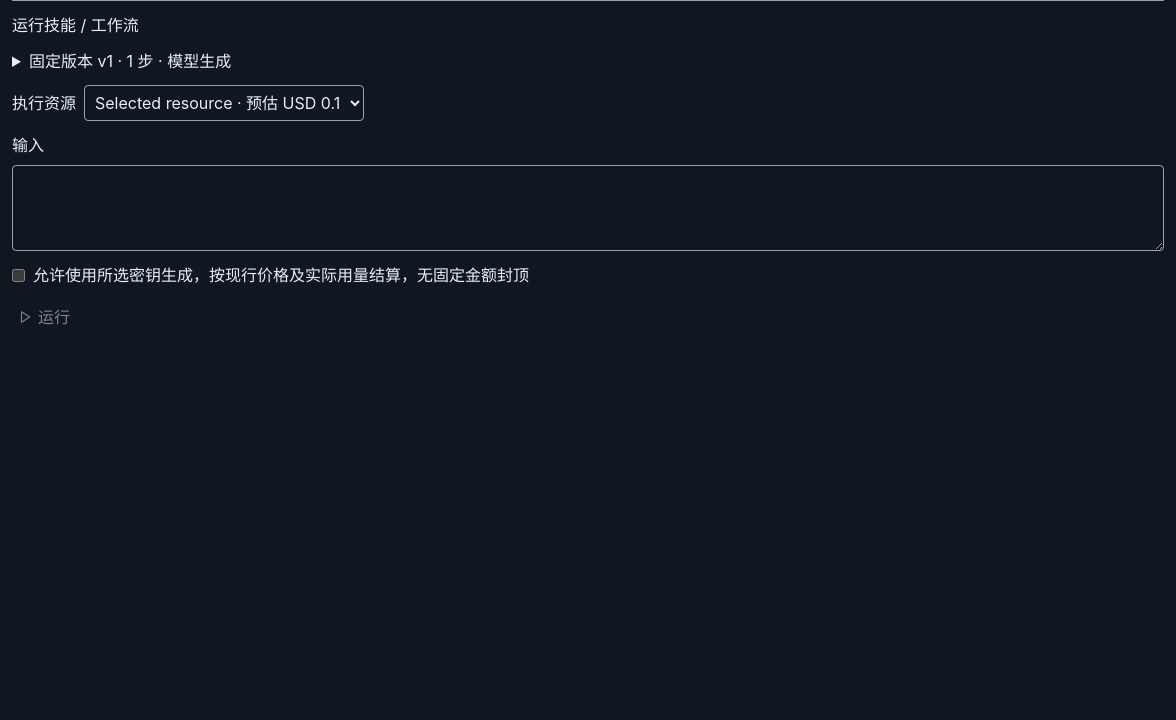
Scenario: AssetExecutionPanel › requires quote/permission confirmation, launches a pinned plan and saves real run results
The image size is (1176, 720).
Expected: the button "运行" is disabled, 12,299 -> 1164,335
Type "user input" into the text box labelled "输入" at (588, 208), box 12,165 -> 1164,251
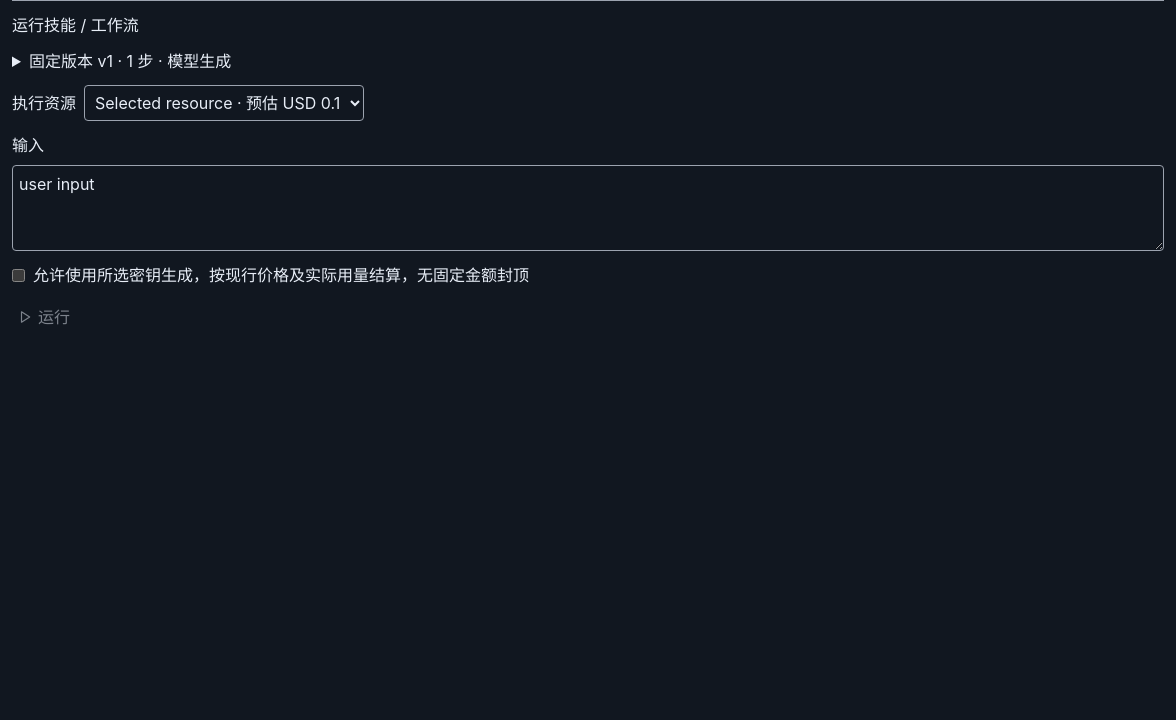
Click the checkbox labelled "允许使用所选密钥生成，按现行价格及实际用量结算，无固定金额封顶" at (18, 275), box 12,268 -> 25,282
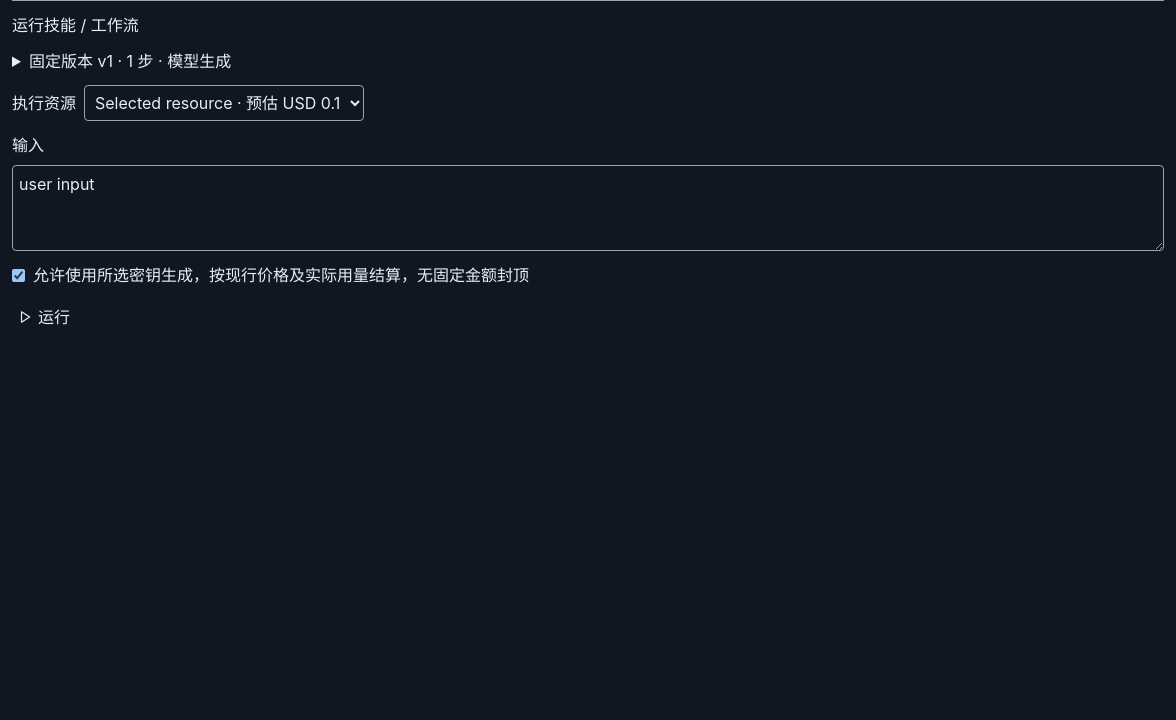
Click the button "运行" at (54, 317), box 12,299 -> 1164,335
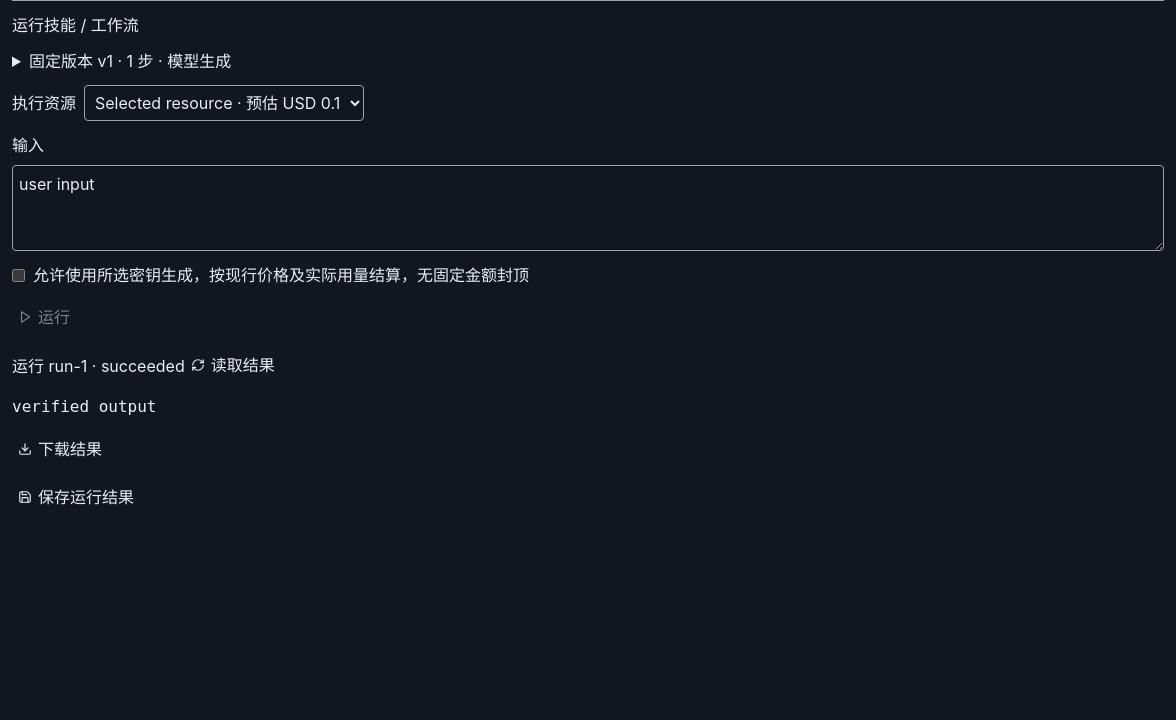
Expected: the text "verified output" is shown, 12,397 -> 156,416
Click the button "保存运行结果" at (86, 497), box 12,479 -> 1164,515
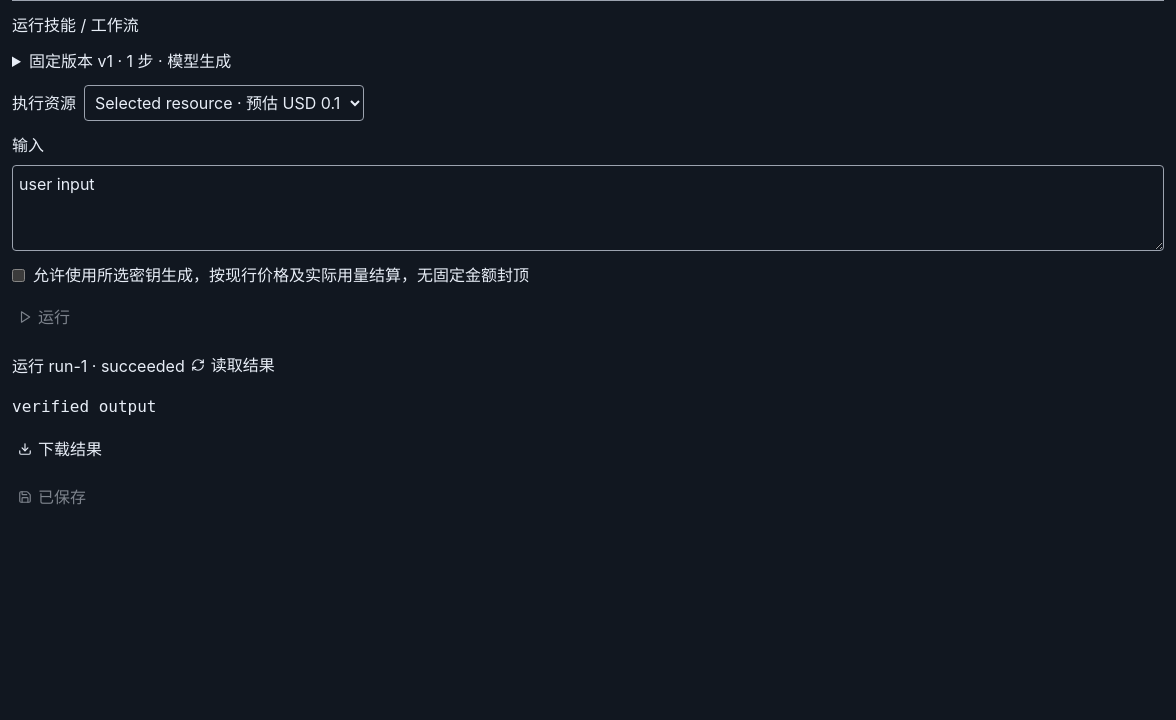
Expected: the text "已保存" is shown, 12,479 -> 1164,515
